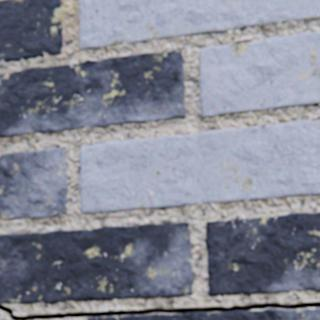brick: (80, 121, 319, 214), (0, 52, 185, 138), (0, 223, 193, 304), (79, 0, 319, 50), (199, 33, 319, 118), (205, 213, 319, 295), (0, 147, 67, 220), (0, 0, 62, 63), (88, 308, 319, 319)
crack: (0, 302, 319, 319)
